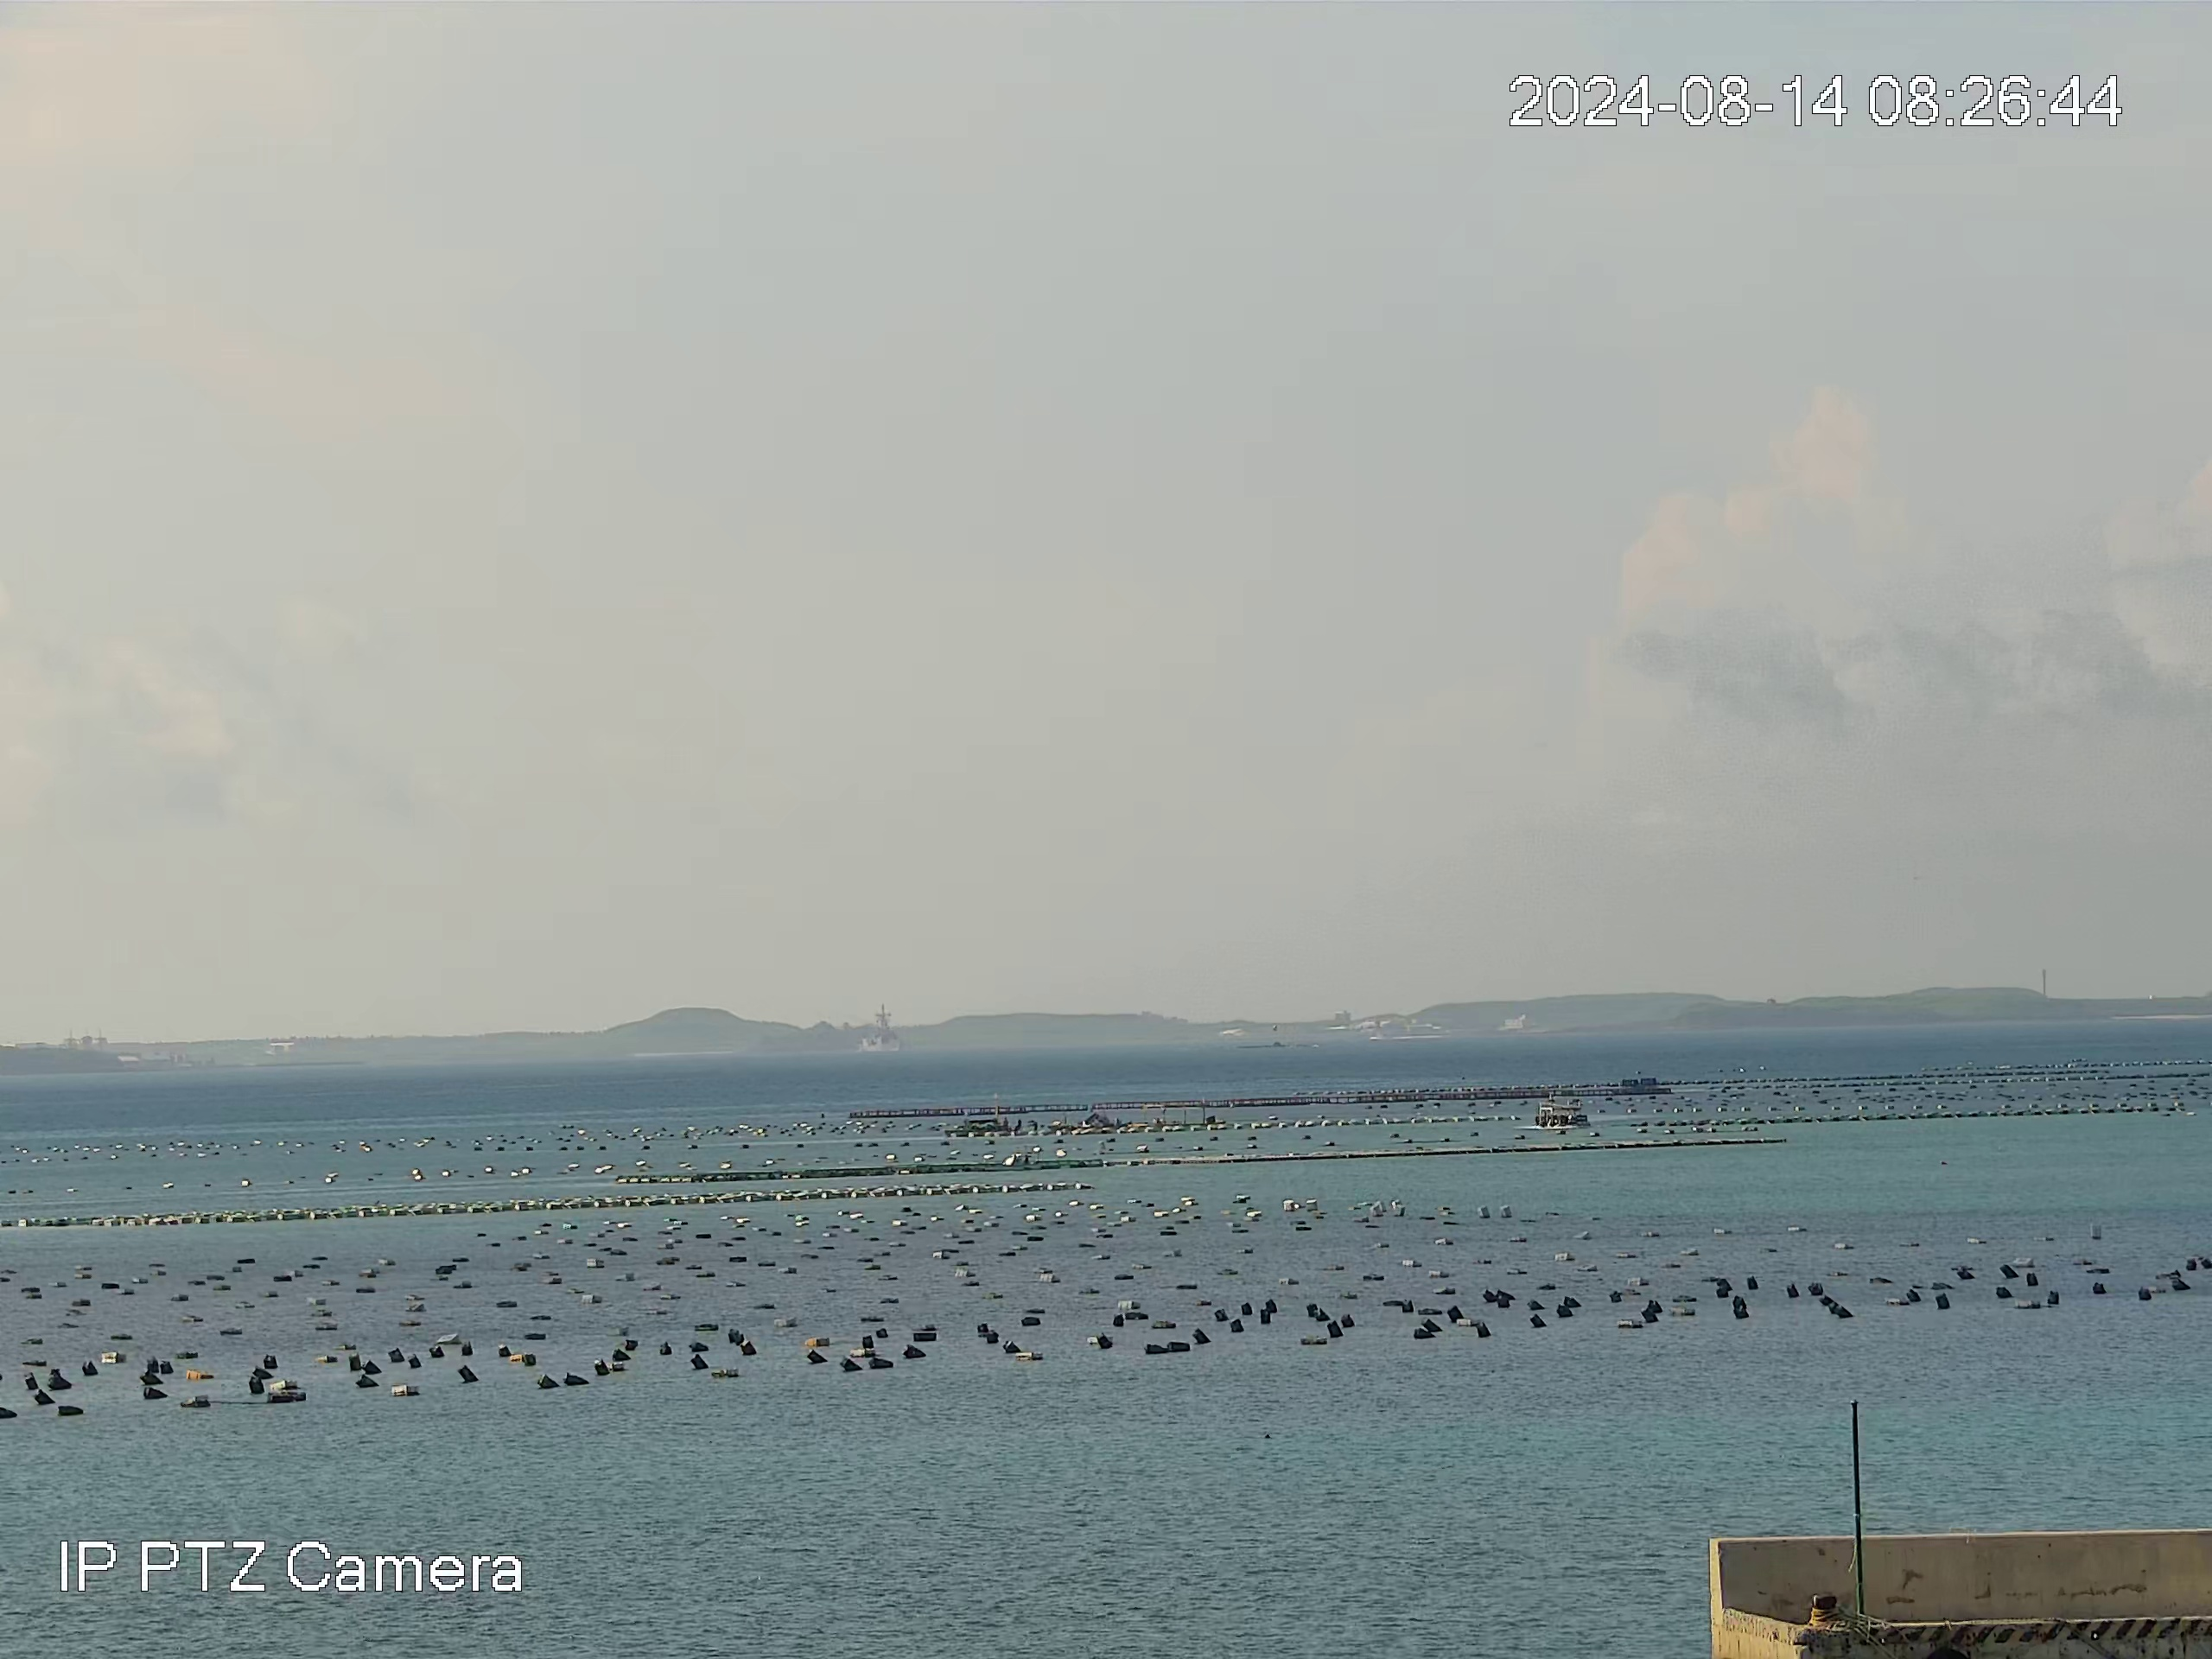boat: (1538, 1101, 1588, 1131), (944, 1117, 1005, 1141)
